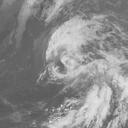cyclone: (42, 14, 115, 101)
